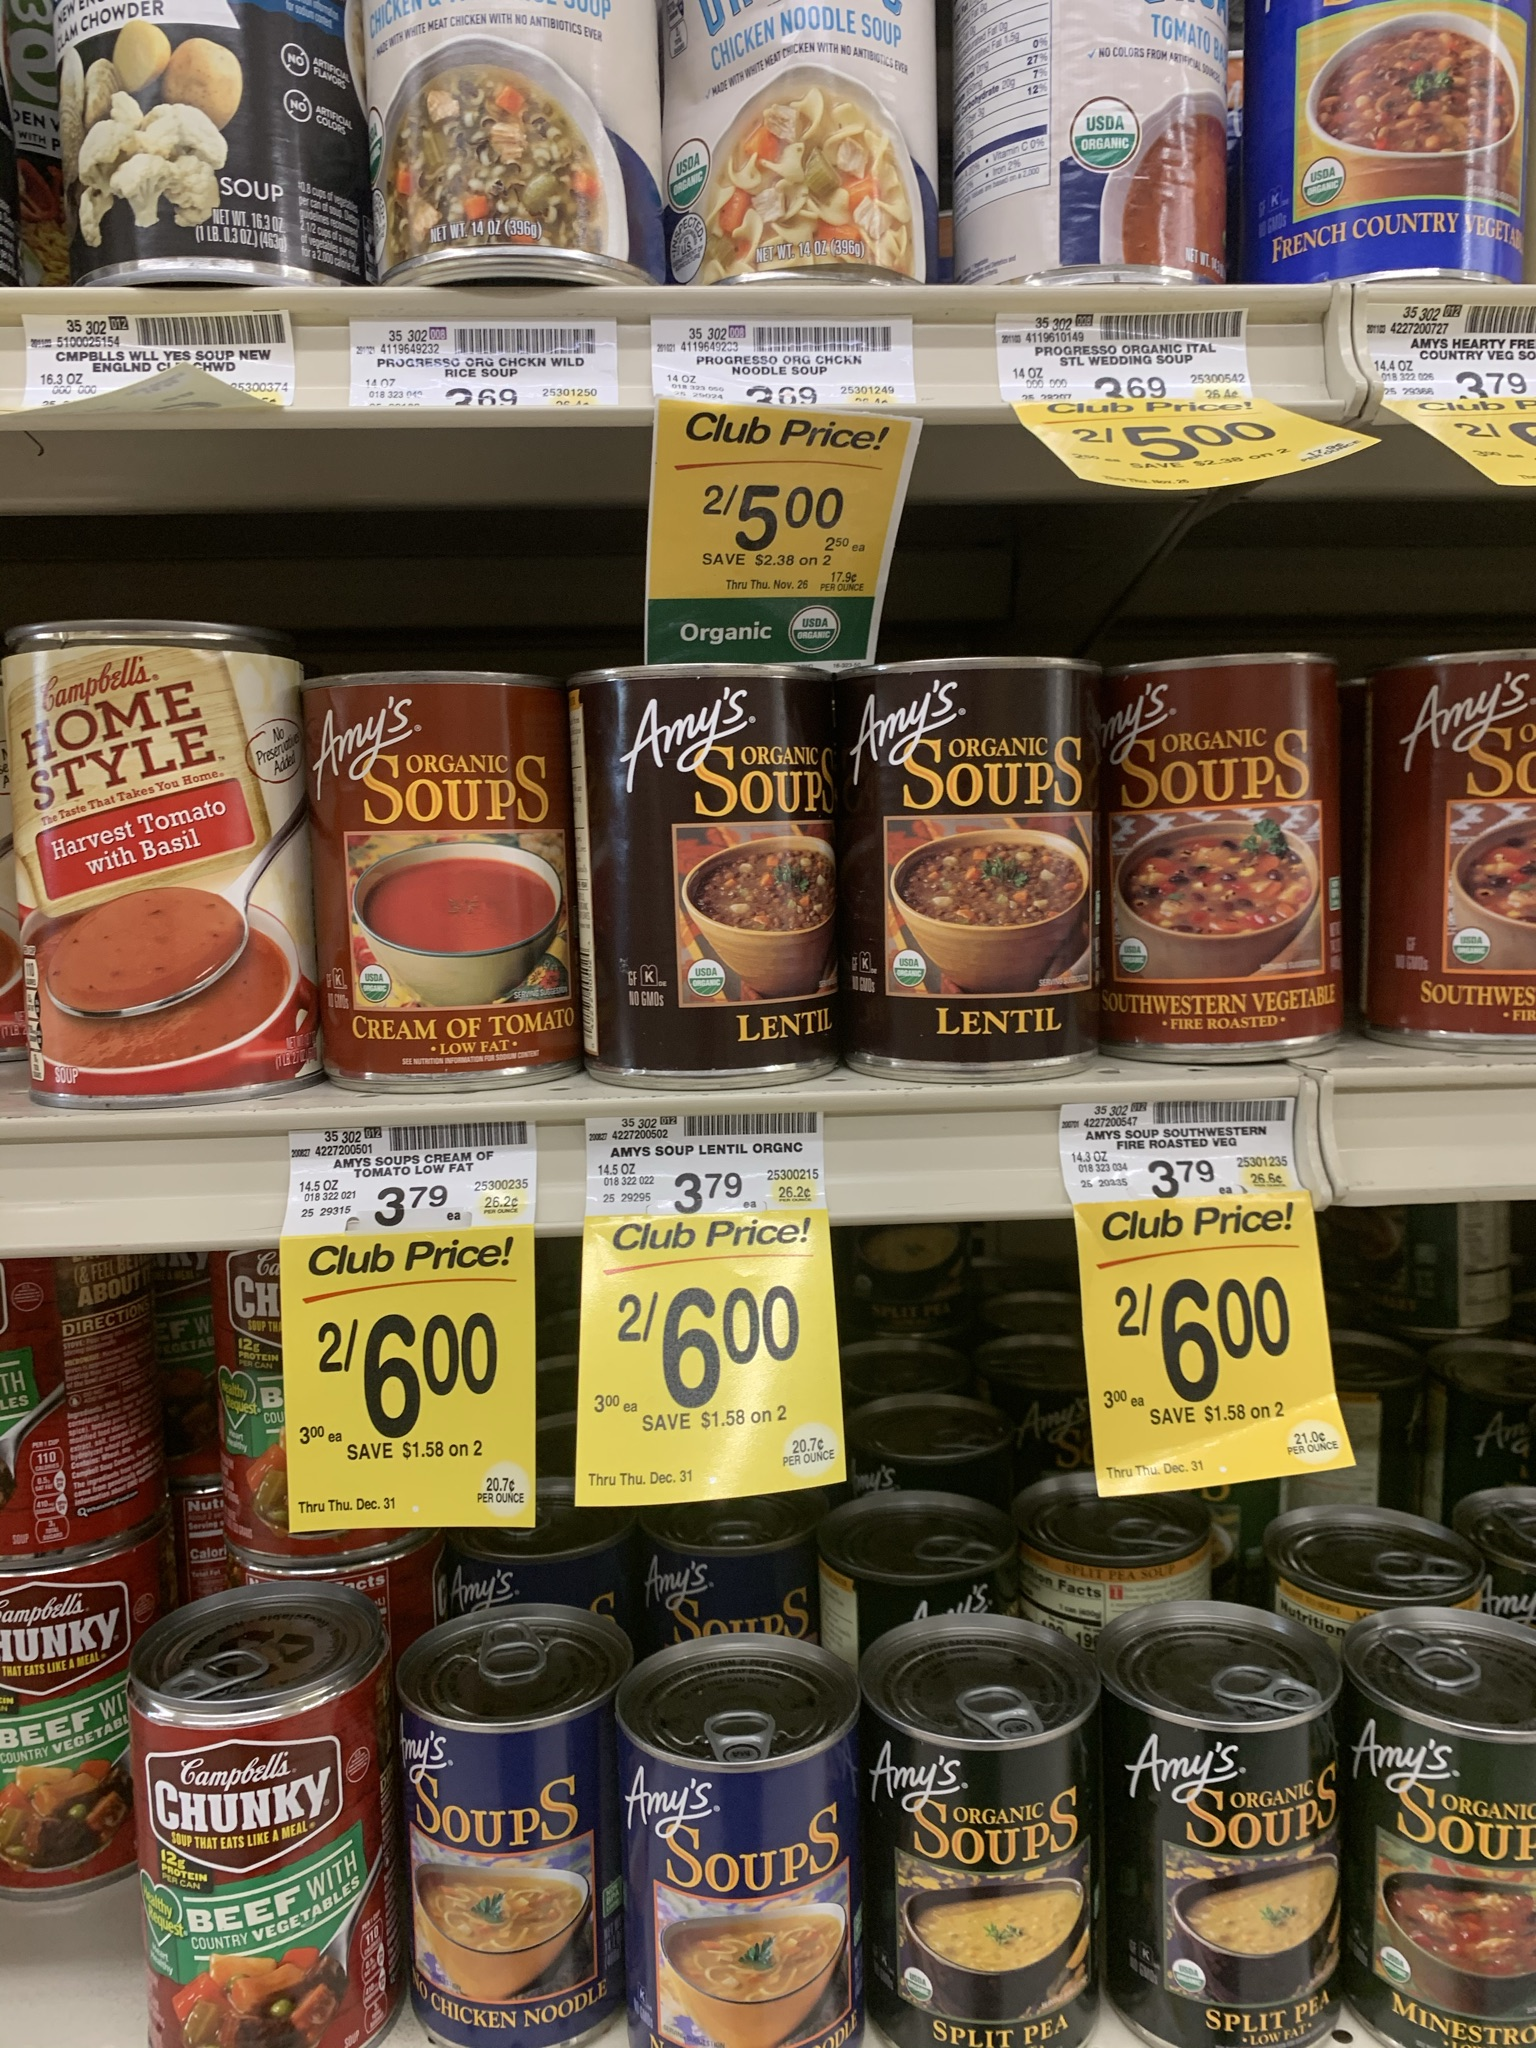can: (2, 614, 307, 1109), (571, 663, 845, 1093), (298, 669, 571, 1095), (850, 655, 1100, 1084), (106, 1687, 390, 2048), (1100, 656, 1347, 1069), (1108, 1705, 1354, 2046), (611, 1721, 865, 2048), (870, 1716, 1104, 2048), (399, 1695, 605, 2048), (1354, 1696, 1536, 2048)
